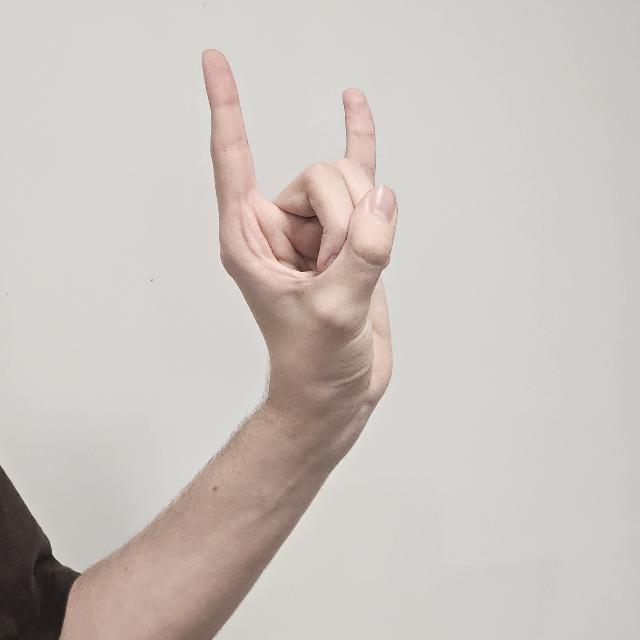L: (202, 47, 400, 443)
